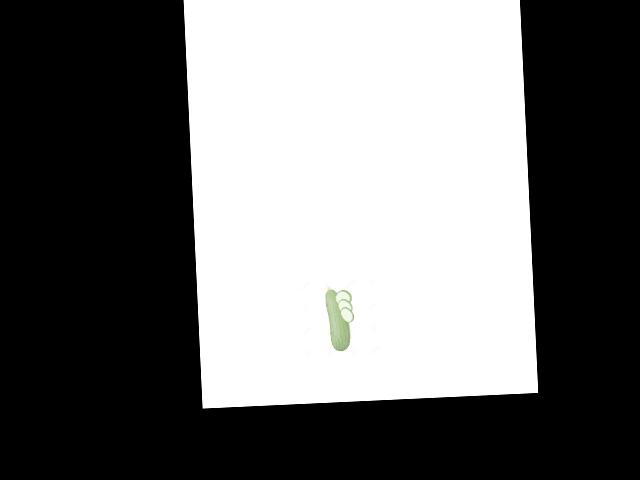cucumber: (325, 285, 351, 352)
